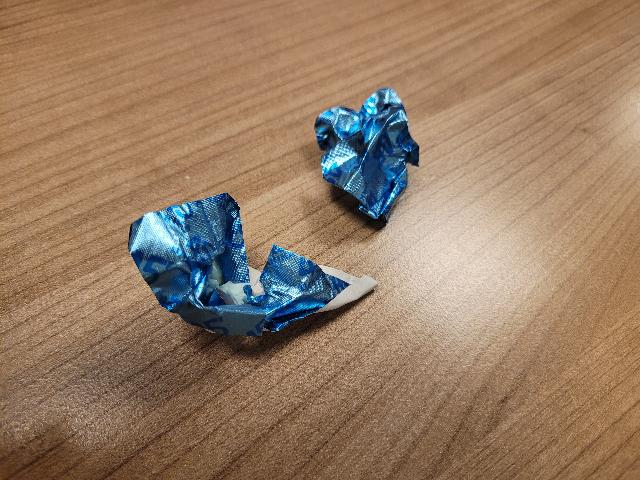Kagit: (121, 190, 387, 353), (312, 82, 417, 233)
